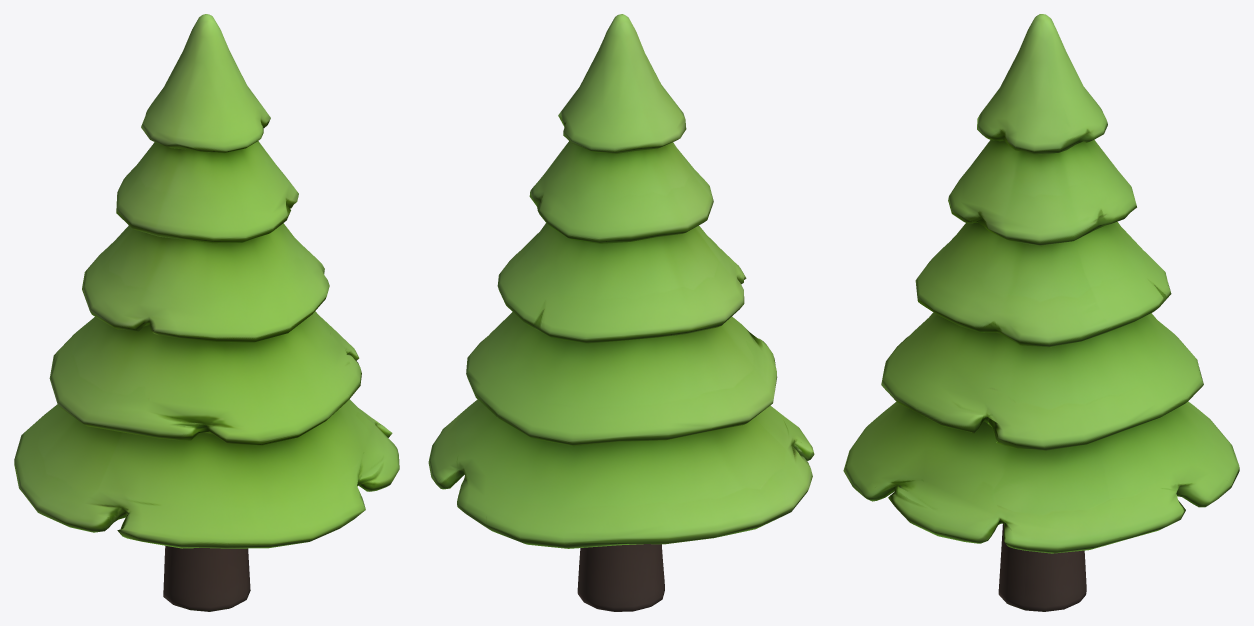
The model's file is Meshy_AI_Stylized_Pine_Tree_Il_0108075959_texture.fbx.
The picture shows the model from 3 angles, left to right: view 1: azimuth 30°, elevation 25°; view 2: azimuth 150°, elevation 25°; view 3: azimuth 270°, elevation 25°; orthographic projection.
Parts seen in each view (by area): view 1: Mesh0; view 2: Mesh0; view 3: Mesh0.
Boxes of the visible parts, x1,y1,x2,y2 form: Mesh0: [14, 14, 399, 611]; Mesh0: [428, 14, 814, 611]; Mesh0: [843, 14, 1239, 611].
Size of the model in its own units: 118 by 191 by 118.
1 material, 1 textured.
